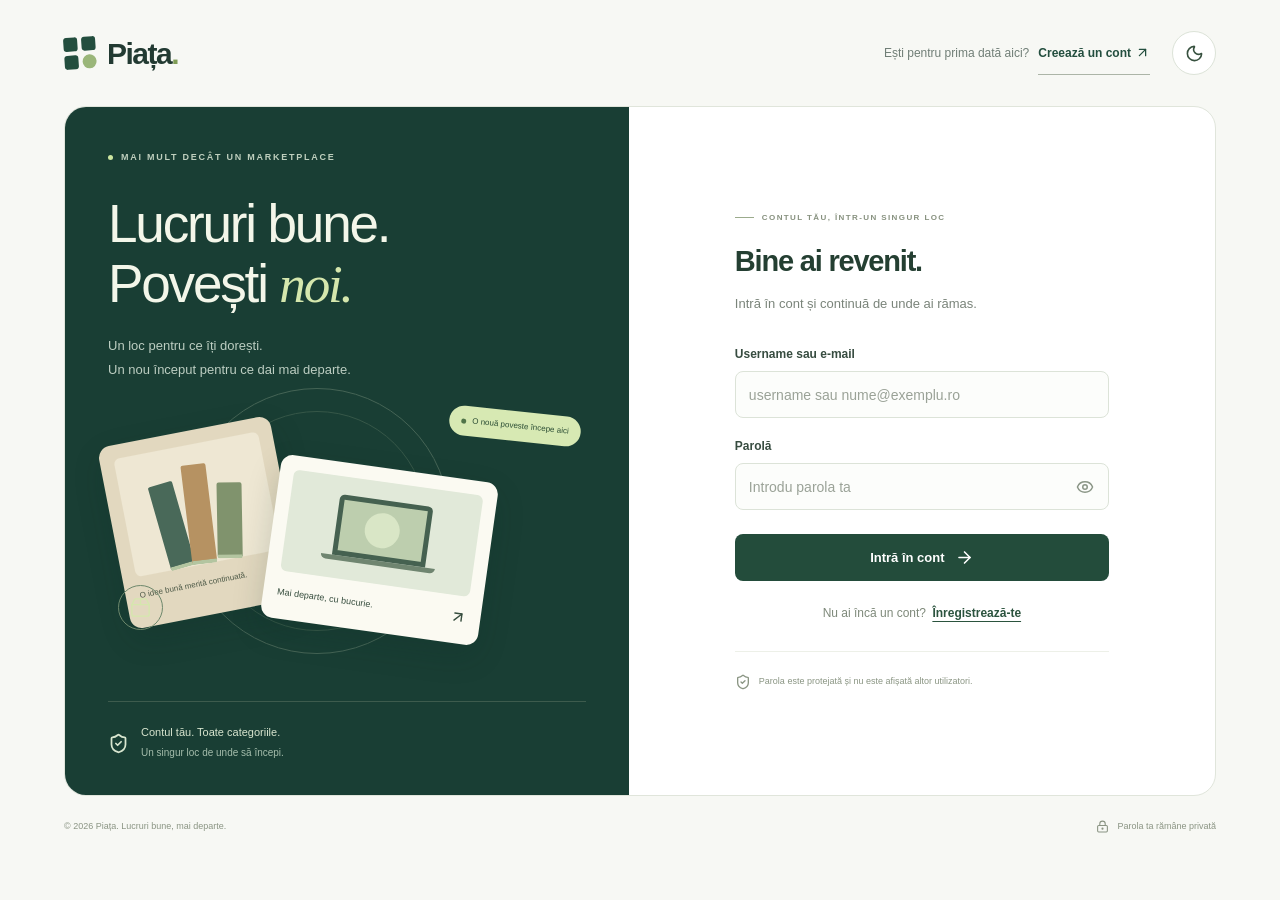
Test: authentication screens › allows revealing and hiding a password without clearing it
The width and height of the screenshot is (1280, 900).
Type "Test-password-2026!" into the password field labelled "Parolă".
click(922, 486); type("Test-password-2026!")  # box [735,463,1109,510]
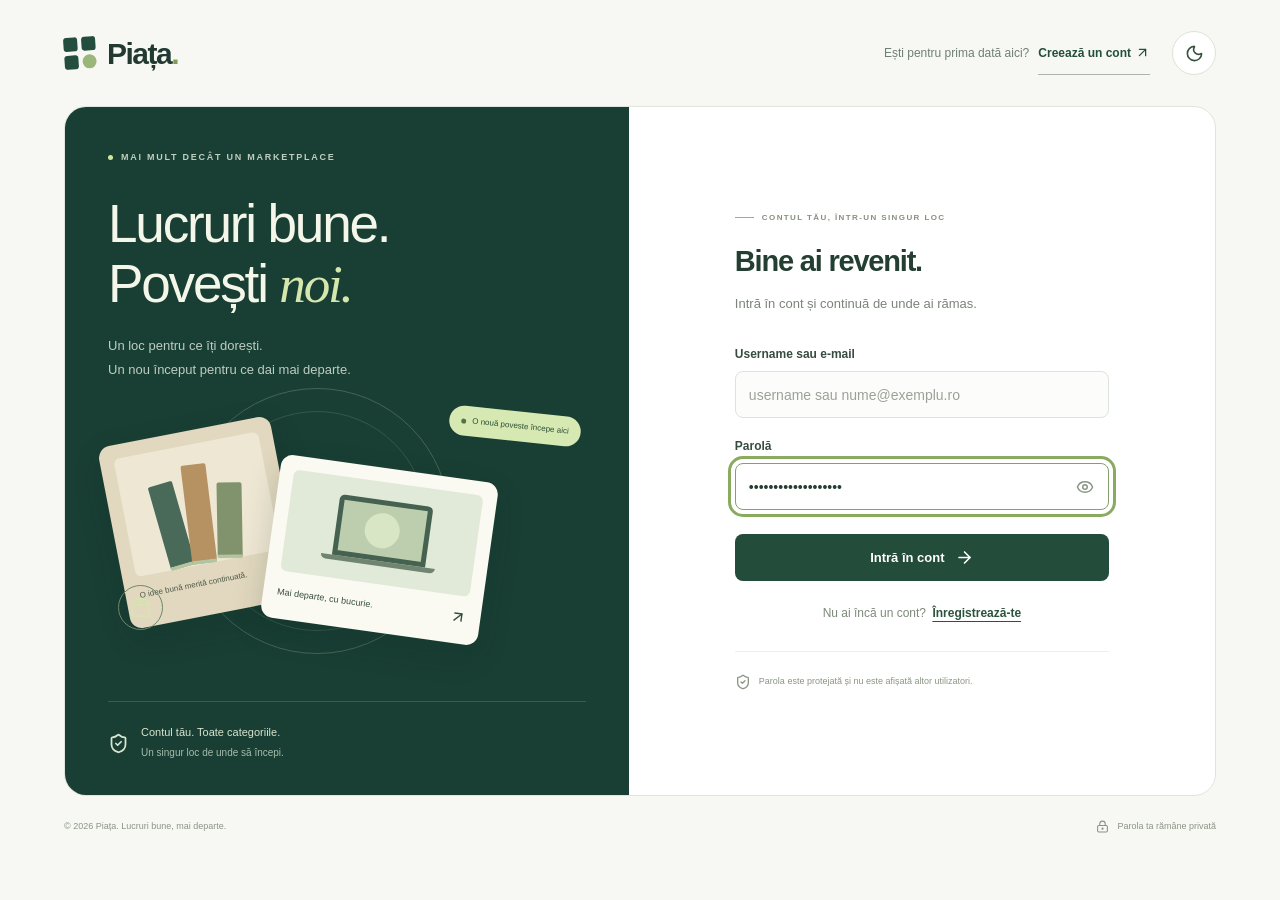
Click the button named "Arată parola".
click(1085, 486)  # box [1066,467,1105,506]
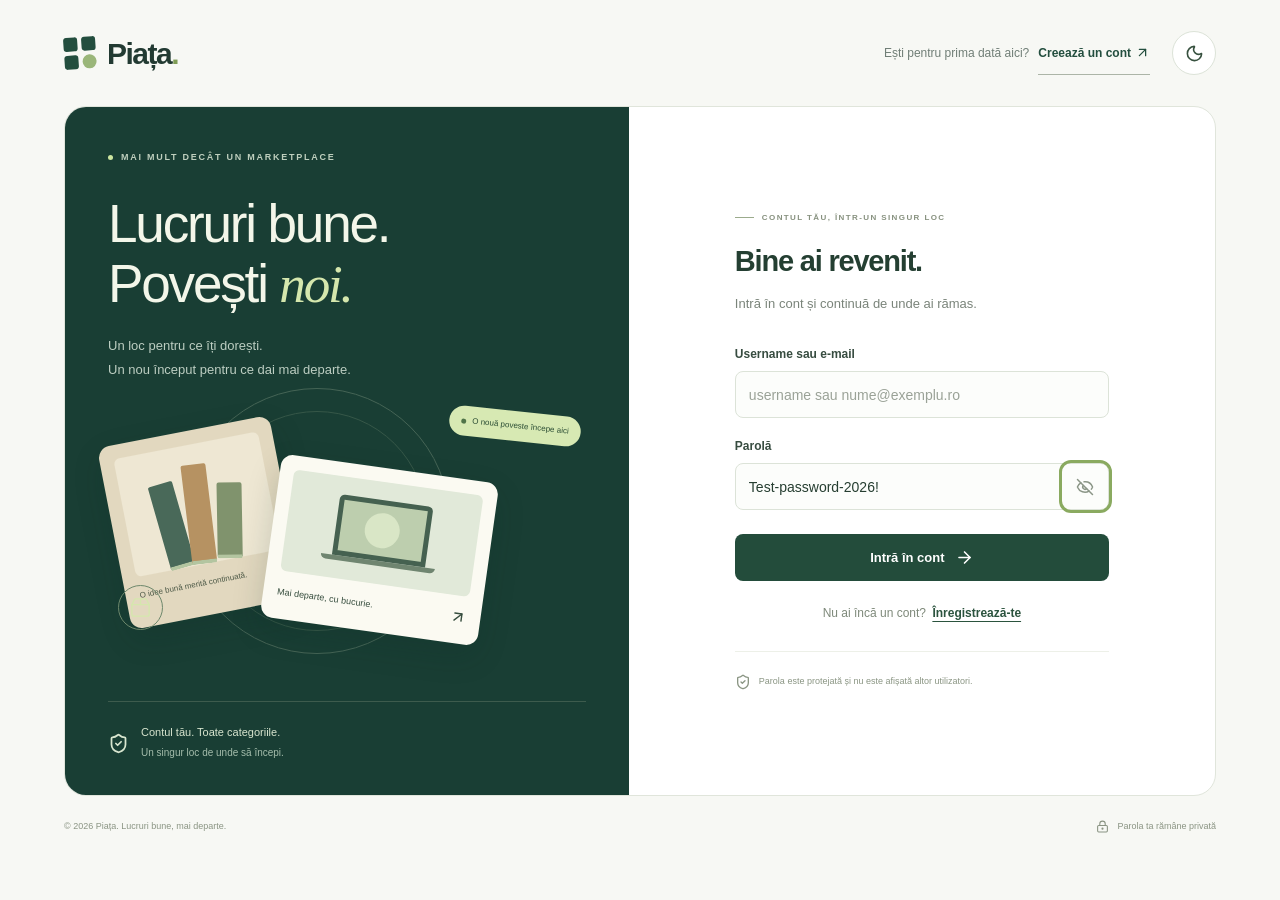
expect the field labelled "Parolă" shows its text: met, box [735,463,1109,510]
Click the button named "Ascunde parola".
click(1085, 486)  # box [1066,467,1105,506]
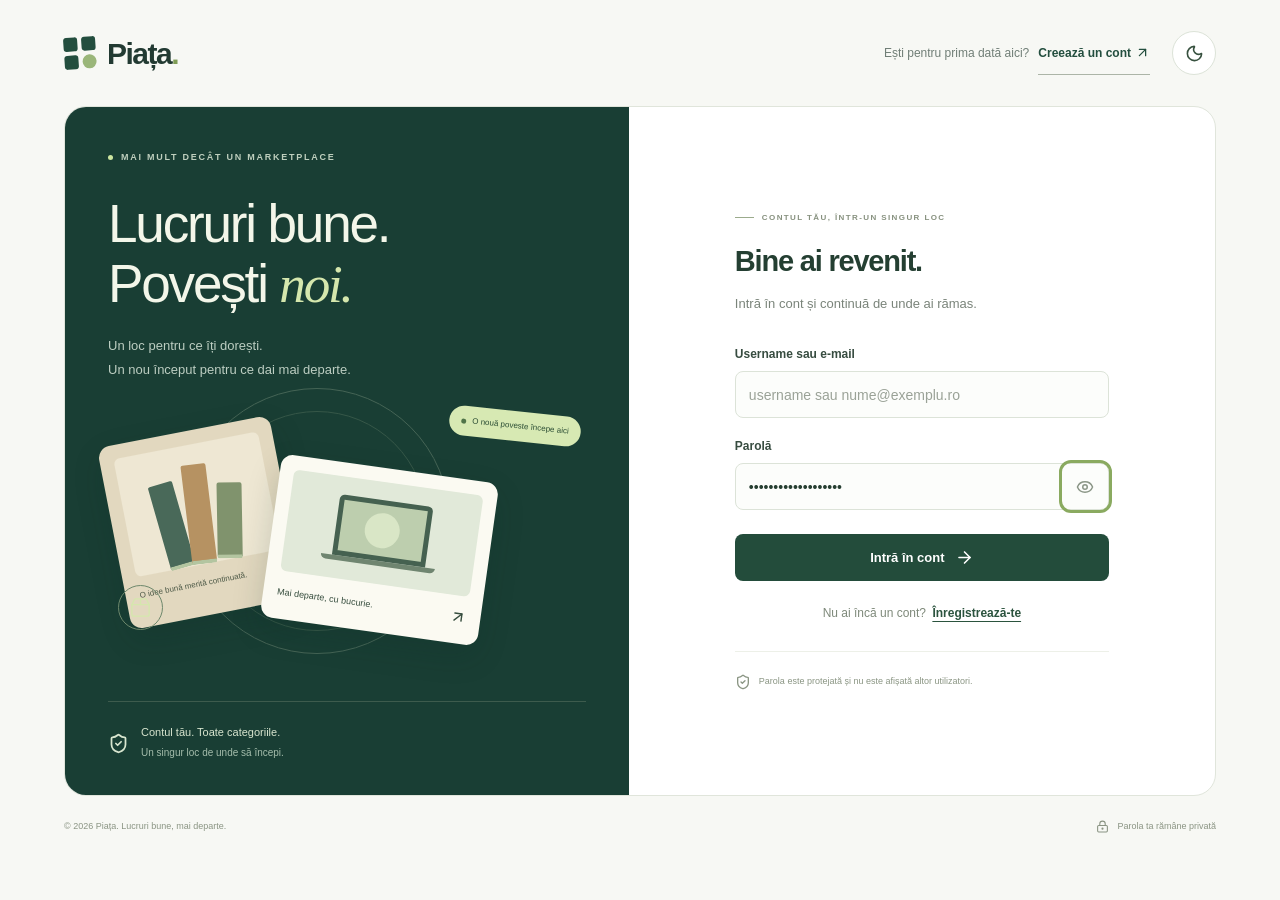
expect the password field labelled "Parolă" hides its text: met, box [735,463,1109,510]
